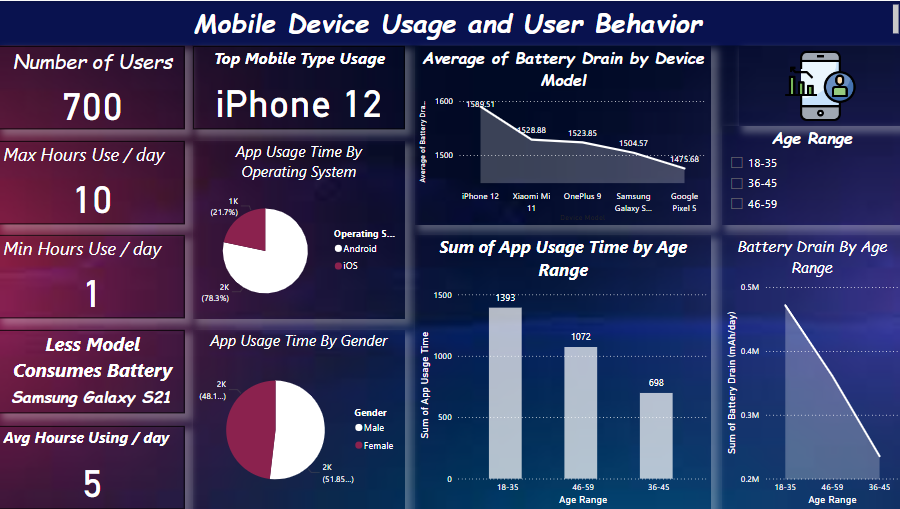

The page's visual inventory and layout, read from the dashboard file:
{"tool":"powerbi","page":{"name":"Page 1","canvas":[1280,720],"ordinal":0},"visuals":[{"type":"textbox","box":[0,0,1280,63.3],"z":0},{"type":"card","title":"Number of Users","fields":{"Values":["CountNonNull(user_behavior_dataset.Age)"]},"box":[0,63.3,263.3,118.3],"z":1000},{"type":"columnChart","fields":{"Category":["user_behavior_dataset.Age Range"],"Y":["Sum(user_behavior_dataset.App Usage Time (hrs/day))"]},"box":[590,331.7,420,388.3],"z":2000},{"type":"pieChart","title":"App Usage Time By Operating System","fields":{"Category":["user_behavior_dataset.Operating System"],"Y":["Sum(user_behavior_dataset.App Usage Time (hrs/day))"]},"box":[275,198.3,300,251.7],"z":3000},{"type":"pieChart","title":"App Usage Time By Gender","fields":{"Category":["user_behavior_dataset.Gender"],"Y":["Sum(user_behavior_dataset.App Usage Time (hrs/day))"]},"box":[275,466.7,300,253.3],"z":4000},{"type":"card","title":"Min Hours Use / day","fields":{"Values":["user_behavior_dataset.Min Mobile Usage per Day"]},"box":[0,331.7,263.3,118.3],"z":5000},{"type":"card","title":"Less Model Consumes Battery","fields":{"Values":["user_behavior_dataset.Top Mobile Battery Use"]},"box":[0,466.7,263.3,118],"z":6000},{"type":"card","title":"Avg Hourse Using / day","fields":{"Values":["Avg(user_behavior_dataset.App Usage Time (hrs/day))"]},"box":[0,601.7,263.3,118.3],"z":7000},{"type":"card","title":"Top Mobile Type Usage","fields":{"Values":["user_behavior_dataset.Top Mobile Type"]},"box":[275,63.3,300,118.3],"z":8000},{"type":"lineChart","title":"Average of Battery Drain by Device Model","fields":{"Category":["user_behavior_dataset.Device Model"],"Y":["Avg(user_behavior_dataset.Battery Drain (mAh/day))"]},"box":[590,63.3,420,253.3],"z":9000},{"type":"card","title":"Max Hours Use / day","fields":{"Values":["user_behavior_dataset.Max Mobile Usage per Day"]},"box":[0,198.3,263.3,118.3],"z":10000},{"type":"lineChart","title":"Battery Drain By Age Range","fields":{"Category":["user_behavior_dataset.Age Range"],"Y":["Sum(user_behavior_dataset.Battery Drain (mAh/day))"]},"box":[1025,331.7,255,388.3],"z":11000},{"type":"slicer","title":"Age Range","fields":{"Values":["user_behavior_dataset.Age Range"]},"box":[1025,176.7,255,140],"z":12000},{"type":"image","box":[1048.8,63.8,231,113.4],"z":13000}]}

Visuals, with their boxes in screenshot pixels (x1, y1, x2, y2), scaled from the page's 1280x720 canvas onto the 900x509 screenshot:
textbox: l=0, t=0, r=899, b=45
"Number of Users" card: l=0, t=45, r=185, b=128
columnChart - user_behavior_dataset.Age Range x Sum(user_behavior_dataset.App Usage Time (hrs/day)): l=415, t=234, r=710, b=508
"App Usage Time By Operating System" pieChart: l=193, t=140, r=404, b=318
"App Usage Time By Gender" pieChart: l=193, t=330, r=404, b=508
"Min Hours Use / day" card: l=0, t=234, r=185, b=318
"Less Model Consumes Battery" card: l=0, t=330, r=185, b=413
"Avg Hourse Using / day" card: l=0, t=425, r=185, b=508
"Top Mobile Type Usage" card: l=193, t=45, r=404, b=128
"Average of Battery Drain by Device Model" lineChart: l=415, t=45, r=710, b=224
"Max Hours Use / day" card: l=0, t=140, r=185, b=224
"Battery Drain By Age Range" lineChart: l=721, t=234, r=899, b=508
"Age Range" slicer: l=721, t=125, r=899, b=224
image: l=737, t=45, r=899, b=125
